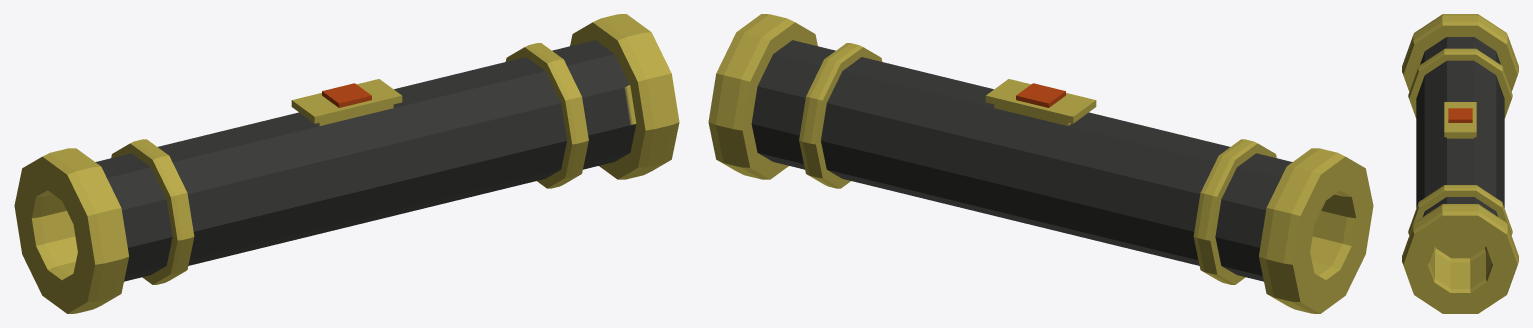
The model's file is CanoLowPoly.fbx.
3 views of the same model, side by side, from view 1: azimuth 30°, elevation 25°; view 2: azimuth 150°, elevation 25°; view 3: azimuth 270°, elevation 25° (orthographic). The views are drawn at different scales.
Parts seen in each view (by area): view 1: Cylinder; view 2: Cylinder; view 3: Cylinder.
Part boxes in pixels (x1=…): Cylinder: x1=14, y1=14, x2=679, y2=313; Cylinder: x1=708, y1=14, x2=1373, y2=313; Cylinder: x1=1402, y1=14, x2=1518, y2=313.
Size of the model in its own units: 1080 by 251 by 264.
Materials: 1 (1 with a texture image).
